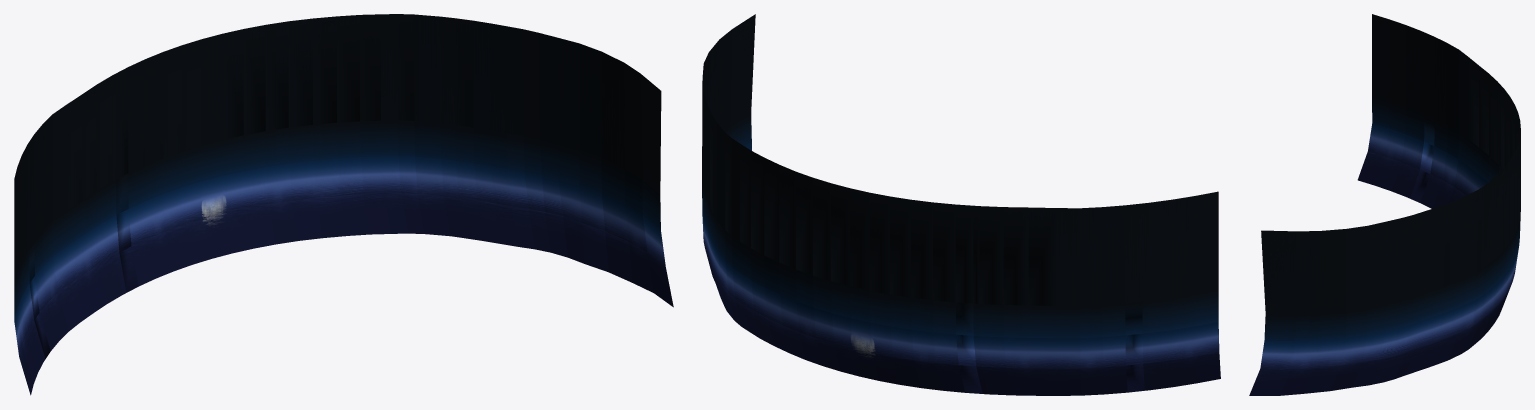
Rendered from sky_model03.FBX.
The picture shows the model from 3 angles, left to right: view 1: azimuth 30°, elevation 25°; view 2: azimuth 150°, elevation 25°; view 3: azimuth 270°, elevation 25°; orthographic projection. The views are drawn at different scales.
Visible parts, largest first — view 1: sky_model03; view 2: sky_model03; view 3: sky_model03.
Part boxes in pixels (<box>): sky_model03: <box>14,14,673,395</box>; sky_model03: <box>702,14,1220,395</box>; sky_model03: <box>1249,14,1520,395</box>.
Bounding box in the file's own units: 11007 × 3842 × 5781.
1 material, 1 textured.
